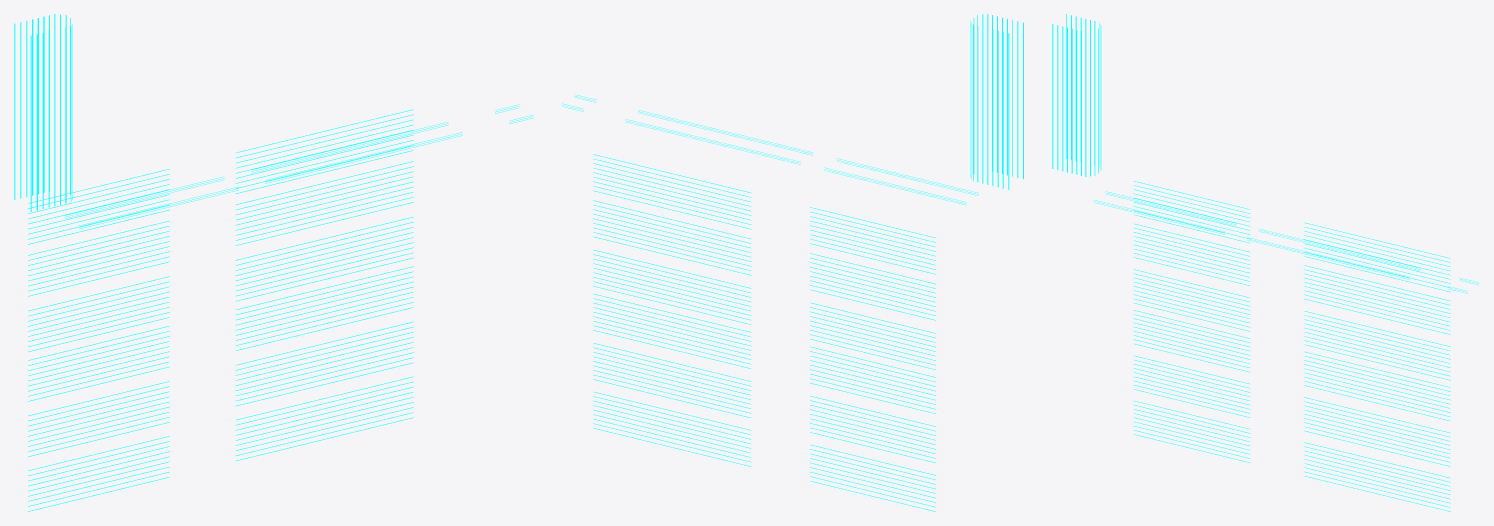
File: ForceFields.fbx
3 views of the same model, side by side, from view 1: azimuth 30°, elevation 25°; view 2: azimuth 150°, elevation 25°; view 3: azimuth 330°, elevation 25° (orthographic). The views are drawn at different scales.
Visible parts, largest first — view 1: Forcefields; view 2: Forcefields; view 3: Forcefields.
Part boxes in pixels (left/top/right/bottom): Forcefields: left=14, top=14, right=533, bottom=511; Forcefields: left=562, top=14, right=1023, bottom=511; Forcefields: left=1052, top=14, right=1478, bottom=511.
Bounding box in the file's own units: 30993 × 30838 × 5418.
